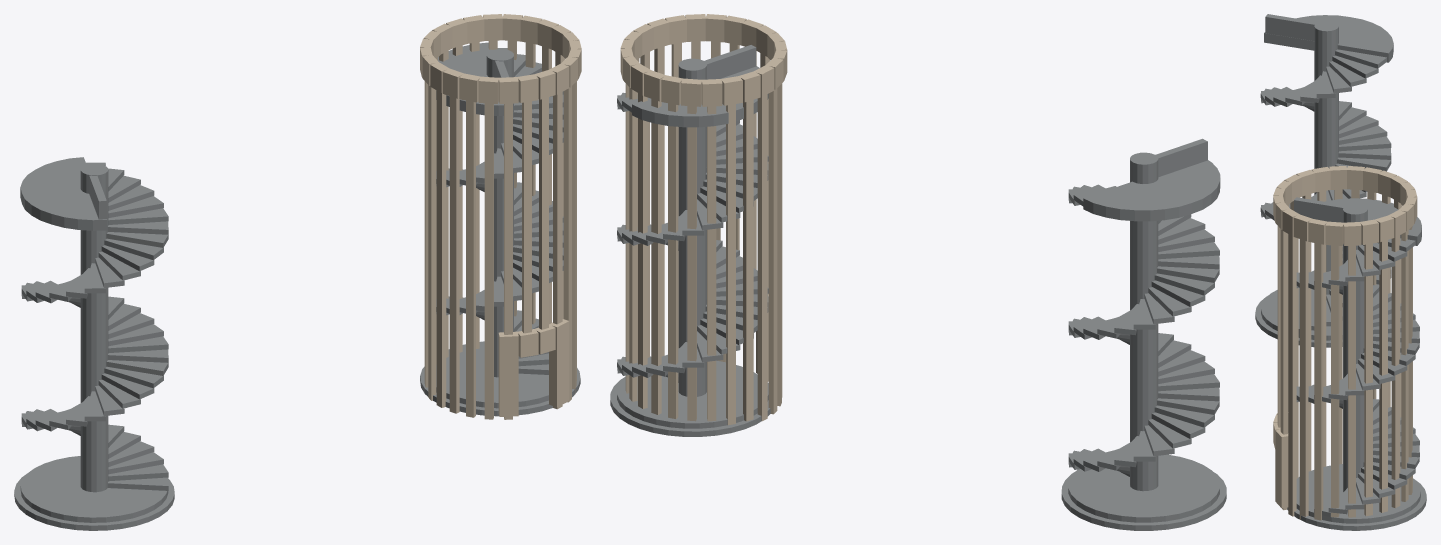
The model's file is demo.glb.
3 views of the same model, side by side, from view 1: azimuth 30°, elevation 25°; view 2: azimuth 150°, elevation 25°; view 3: azimuth 270°, elevation 25° (orthographic). The views are drawn at different scales.
Parts seen in each view (by area): view 1: Mesh_Mesh_head_geo.001_lambert2SG.001; view 2: Mesh_Mesh_head_geo.001_lambert2SG.001; view 3: Mesh_Mesh_head_geo.001_lambert2SG.001.
Boxes of the visible parts, <box> form: Mesh_Mesh_head_geo.001_lambert2SG.001: <box>14,14,581,530</box>; Mesh_Mesh_head_geo.001_lambert2SG.001: <box>610,14,1226,530</box>; Mesh_Mesh_head_geo.001_lambert2SG.001: <box>1255,14,1426,530</box>.
Bounding box in the file's own units: 121 × 70 × 35.99.
